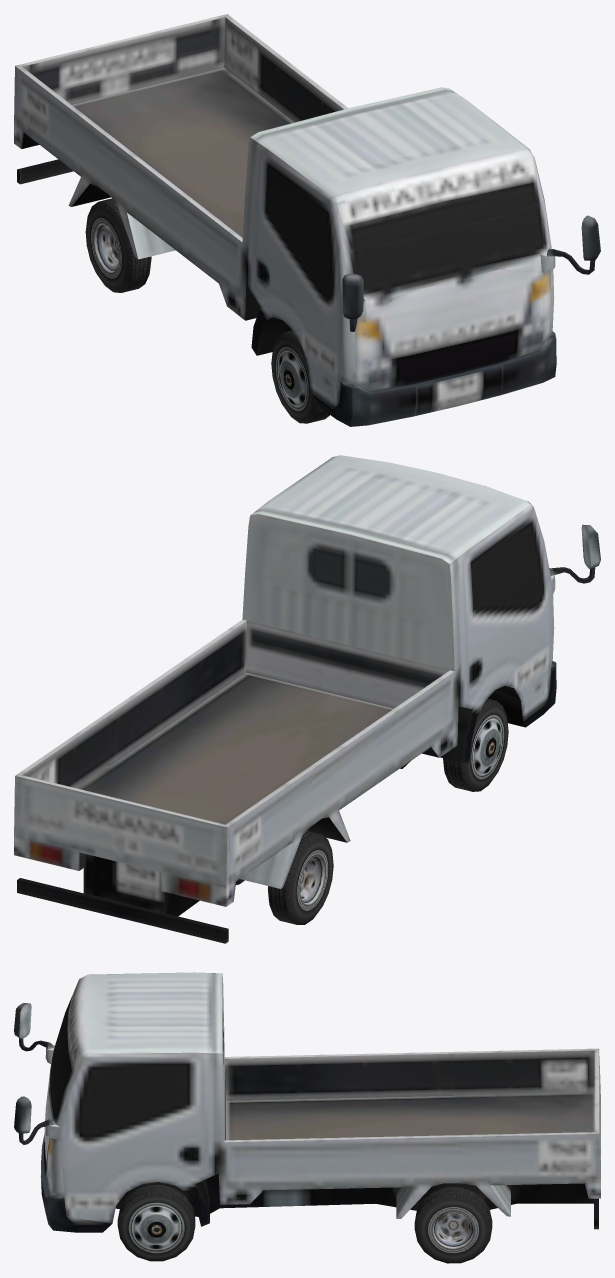
Rendered from lorry.glb.
3 views of the same model, one above another, from view 1: azimuth 30°, elevation 25°; view 2: azimuth 150°, elevation 25°; view 3: azimuth 270°, elevation 25° (orthographic). The views are drawn at different scales.
Visible parts, largest first — view 1: Object_12, Object_4; view 2: Object_12, Object_4; view 3: Object_12, Object_4.
Part boxes in pixels (bbox=[...]): Object_12: bbox=[14, 14, 600, 426]; Object_4: bbox=[85, 198, 329, 423]; Object_12: bbox=[14, 455, 600, 943]; Object_4: bbox=[268, 699, 508, 924]; Object_12: bbox=[14, 972, 600, 1232]; Object_4: bbox=[117, 1185, 492, 1263].
Bounding box in the file's own units: 0.512 × 0.4974 × 1.23.
Materials: 2 (2 with a texture image).
